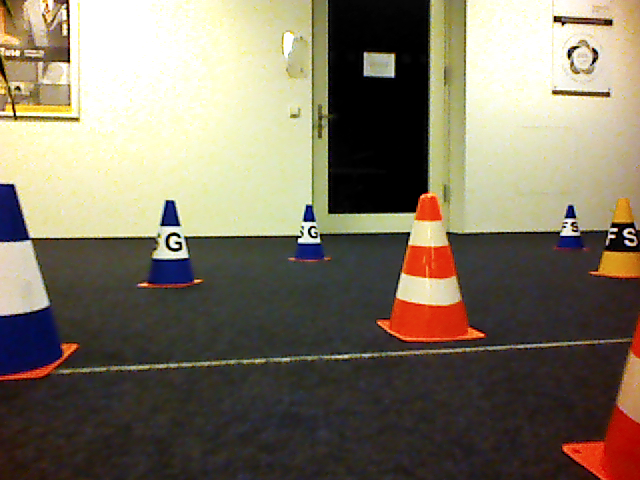bluecone: (1, 183, 83, 380), (137, 199, 205, 289), (288, 204, 332, 263), (552, 203, 590, 251)
orangeconesmall: (378, 191, 487, 345)
yellowcone: (590, 197, 640, 281)
